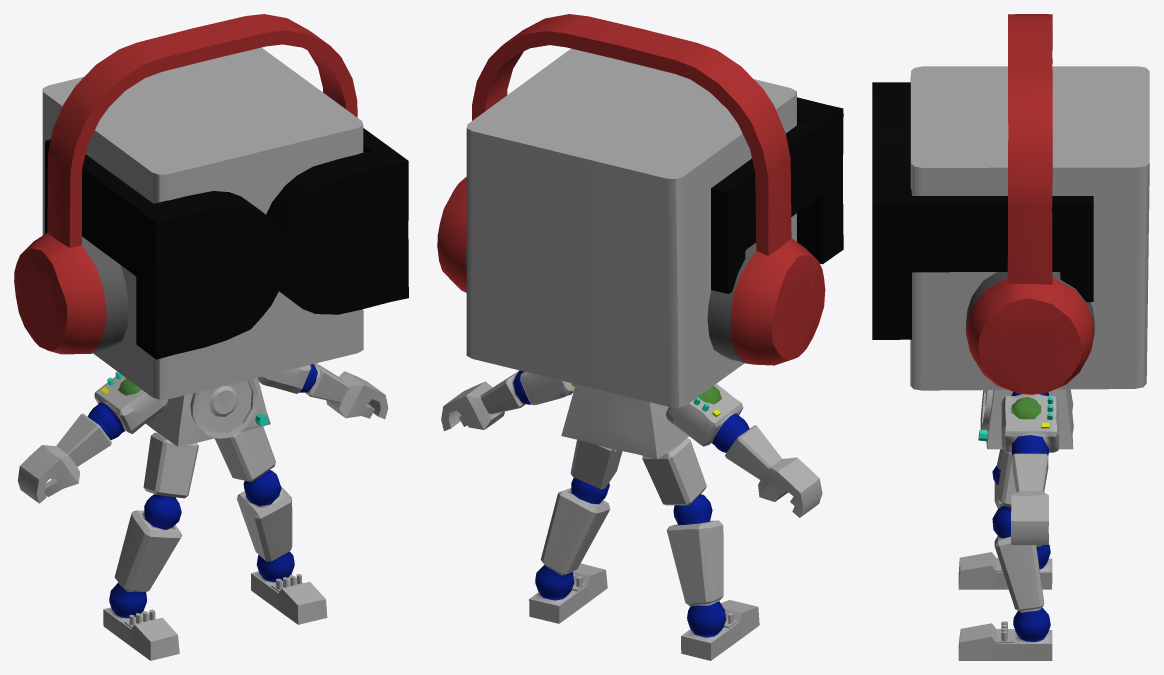
File: Ruben_New.fbx
3 views of the same model, side by side, from view 1: azimuth 30°, elevation 25°; view 2: azimuth 150°, elevation 25°; view 3: azimuth 270°, elevation 25° (orthographic). The views are drawn at different scales.
Visible parts, largest first — view 1: GlassesLP, HeadLP, HeadsetLP, LegsLP, ArmsLP, BodyLP; view 2: HeadLP, HeadsetLP, LegsLP, GlassesLP, ArmsLP, BodyLP; view 3: HeadLP, HeadsetLP, GlassesLP, LegsLP, ArmsLP, BodyLP.
Boxes of the visible parts, x1=… form: GlassesLP: x1=44, y1=128, x2=408, y2=359; HeadLP: x1=42, y1=47, x2=363, y2=399; HeadsetLP: x1=14, y1=14, x2=357, y2=354; LegsLP: x1=103, y1=426, x2=327, y2=660; ArmsLP: x1=17, y1=363, x2=388, y2=503; BodyLP: x1=146, y1=377, x2=270, y2=446; HeadLP: x1=466, y1=48, x2=796, y2=407; HeadsetLP: x1=437, y1=14, x2=825, y2=365; LegsLP: x1=529, y1=438, x2=759, y2=660; GlassesLP: x1=711, y1=97, x2=843, y2=293; ArmsLP: x1=441, y1=370, x2=822, y2=517; BodyLP: x1=561, y1=384, x2=688, y2=459; HeadLP: x1=910, y1=66, x2=1149, y2=390; HeadsetLP: x1=966, y1=14, x2=1094, y2=394; GlassesLP: x1=872, y1=82, x2=1093, y2=339; LegsLP: x1=958, y1=449, x2=1052, y2=660; ArmsLP: x1=1001, y1=392, x2=1058, y2=544; BodyLP: x1=978, y1=389, x2=1073, y2=449.
Size of the model in its own units: 6.22 by 9.73 by 4.29.
